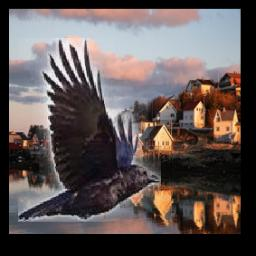Crow: (18, 39, 161, 223)
